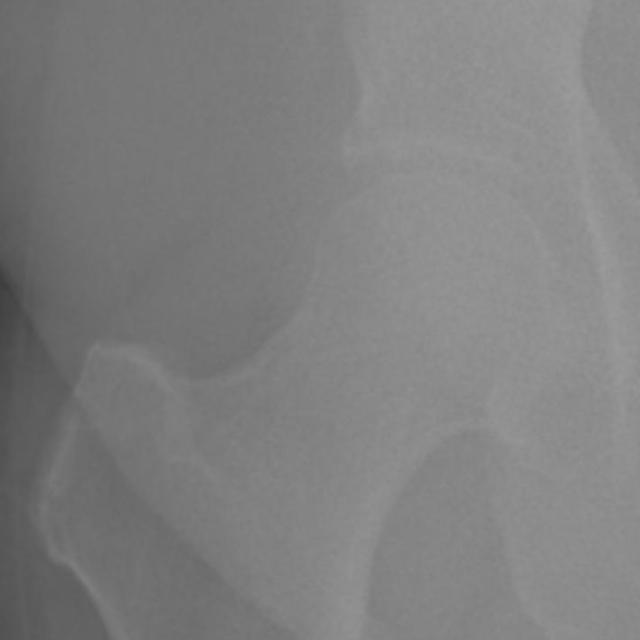Fitted_femural_head: (265, 176, 432, 265)
